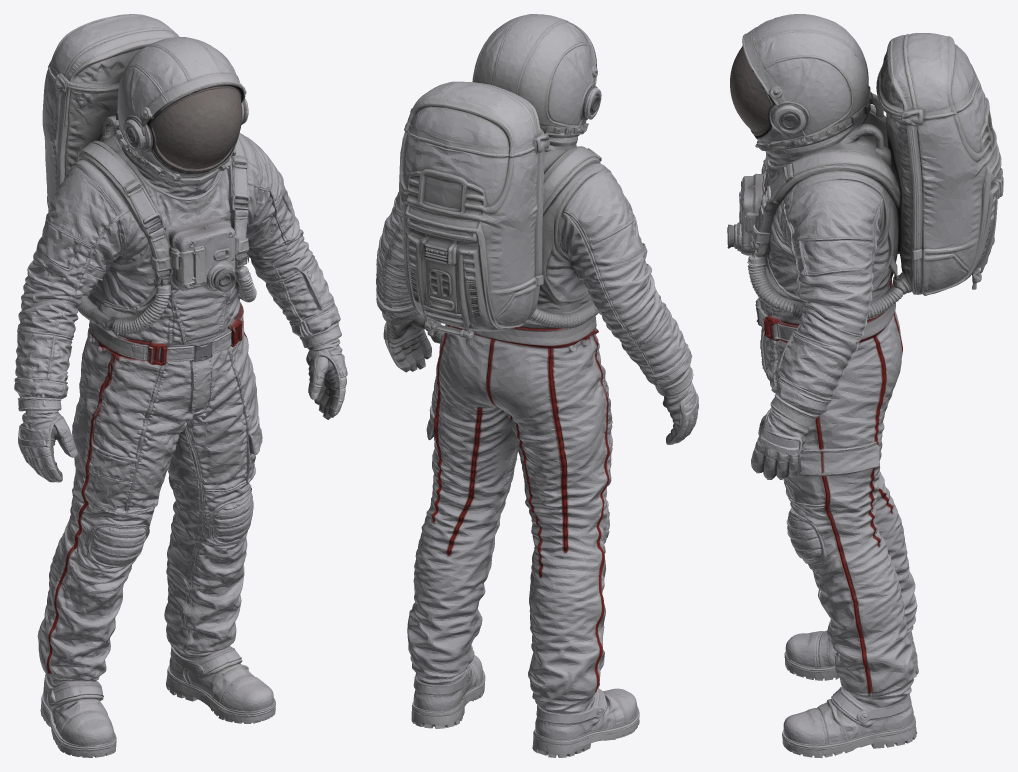
3 renders of one model, left to right at view 1: azimuth 30°, elevation 25°; view 2: azimuth 150°, elevation 25°; view 3: azimuth 270°, elevation 25°, orthographic.
Parts seen in each view (by area): view 1: world; view 2: world; view 3: world.
Boxes of the visible parts, x1,y1,x2,y2 form: world: [14, 14, 347, 757]; world: [376, 14, 698, 757]; world: [727, 14, 1003, 757].
Bounding box in the file's own units: 0.4771 × 1 × 0.3618.
1 material, 1 textured.
